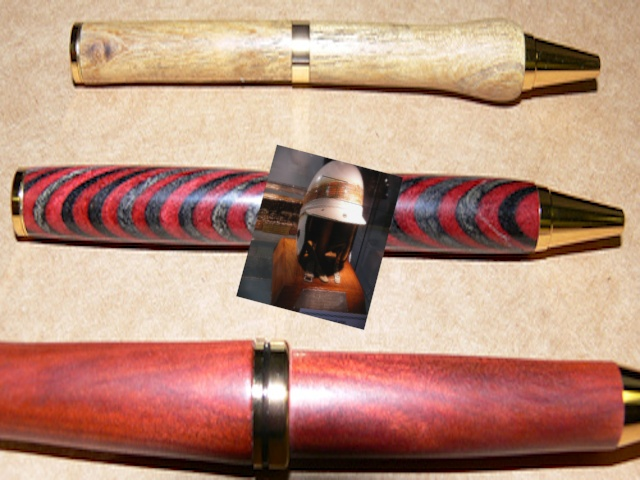file_cabinet: (225, 145, 408, 336)
